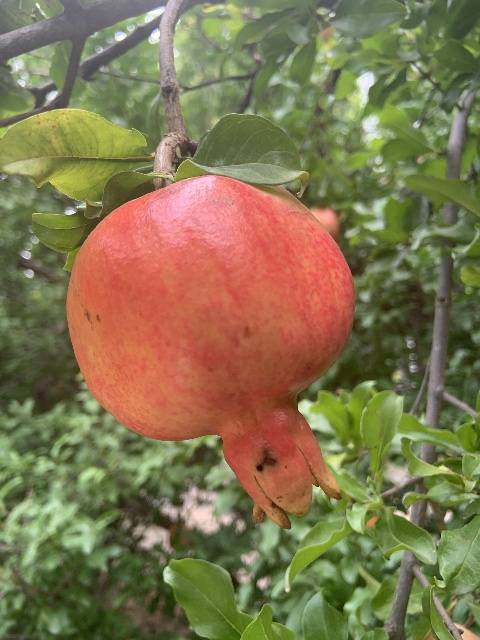ripe: (65, 174, 356, 529)
